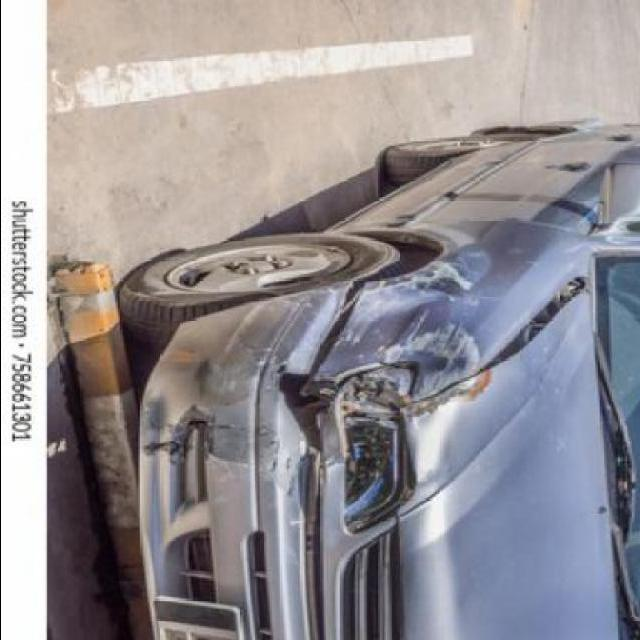Headlight-Damage: (324, 352, 420, 533)
bonnet-dent: (396, 294, 617, 638)
fender-dent: (320, 223, 588, 374)
front-bumper-dent: (132, 283, 320, 639)
